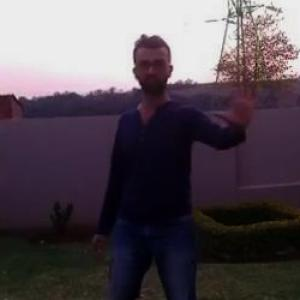follow_hand: (212, 77, 266, 132)
